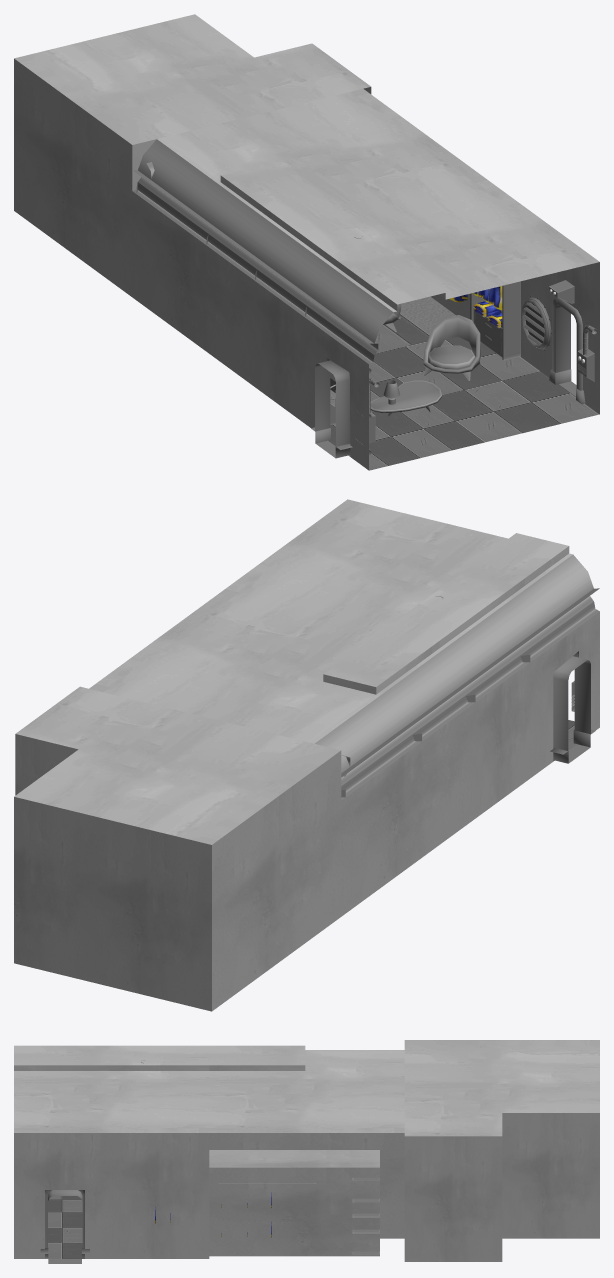
The model's file is MSH_living_quarters_L3_R1_optimized.fbx.
3 views of the same model, one above another, from view 1: azimuth 30°, elevation 25°; view 2: azimuth 150°, elevation 25°; view 3: azimuth 270°, elevation 25° (orthographic). The views are drawn at different scales.
Visible parts, largest first — view 1: lightmap1, lightmap0, MSH_living_quarters_L3_R1_door; view 2: lightmap1, MSH_living_quarters_L3_R1_door; view 3: lightmap1, lightmap0, MSH_living_quarters_L3_R1_door.
Boxes of the visible parts, x1,y1,x2,y2 form: lightmap1: (14, 14, 599, 470); lightmap0: (146, 162, 597, 444); MSH_living_quarters_L3_R1_door: (315, 304, 576, 458); lightmap1: (14, 499, 599, 1011); MSH_living_quarters_L3_R1_door: (553, 656, 590, 763); lightmap1: (14, 1040, 599, 1261); lightmap0: (141, 1060, 379, 1254); MSH_living_quarters_L3_R1_door: (48, 1190, 82, 1263).
Size of the model in its own units: 10.3 by 6.16 by 24.77.
Materials: 3 (2 with a texture image).
